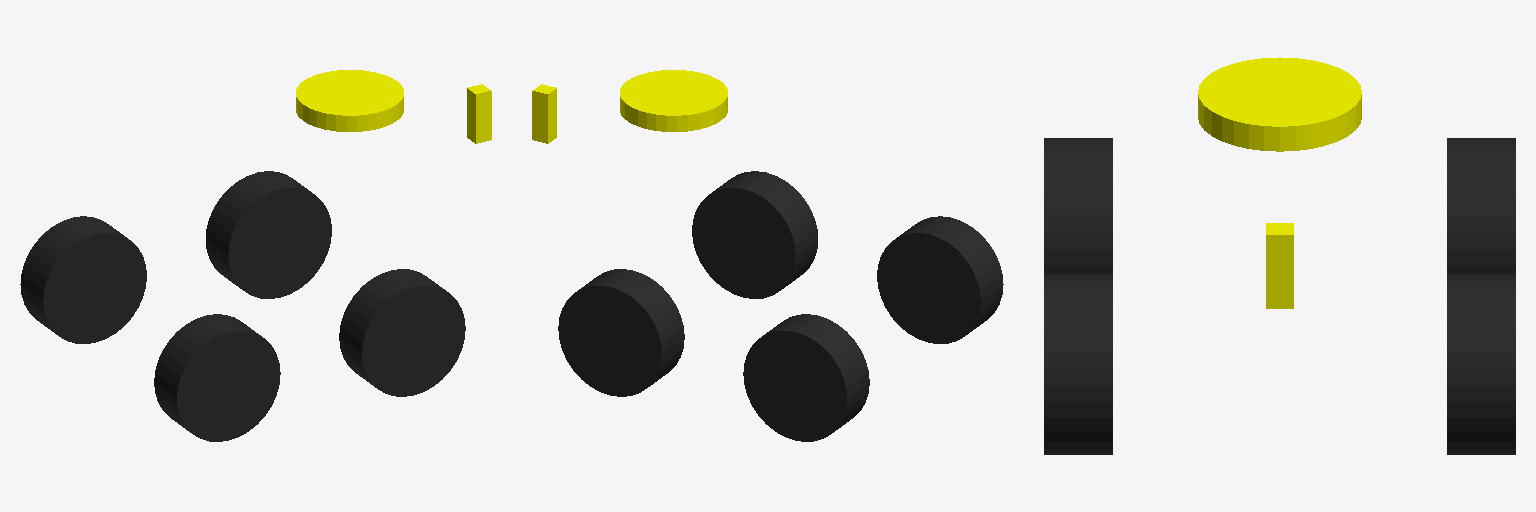
robot.urdf — robot:
<?xml version="1.0" encoding="utf-8"?>
<robot name="robot">

  <!-- Base Link -->
  <link name="base_link">
    <inertial>
      <origin xyz="-0.0121459734710621 -0.000198241570210142 0.0449906840595474" rpy="0 0 0" />
      <mass value="1.00796524149794" />
      <inertia
        ixx="0.000664022840014205"
        ixy="3.36477372709559E-06"
        ixz="-6.46022439037541E-06"
        iyy="0.00190520705036307"
        iyz="5.00471440887707E-10"
        izz="0.00244406959005576" />
    </inertial>
    <visual>
      <origin xyz="0 0 0" rpy="0 0 3.14159265" />
      <geometry>
        <mesh filename="package://robot_description/meshes/base_link.STL" />
      </geometry>
      <material name="yellow">
        <color rgba="1 1 0 1" />
      </material>
    </visual>
    <collision>
      <origin xyz="-0.012 0 0.045" rpy="0 0 3.14159265" />
      <geometry>
        <mesh filename="package://robot_description/meshes/base_link.STL" />
      </geometry>
    </collision>
  </link>

  <!-- Left Rear Wheel -->
  <link name="left_rear_wheel">
    <inertial>
      <origin xyz="0 0 0" rpy="0 0 0" />
      <mass value="0.0310322138231813" />
      <inertia
        ixx="1.37618924502922E-05"
        ixy="0"
        ixz="0"
        iyy="1.37620600377143E-05"
        iyz="0"
        izz="2.28600342994284E-05" />
    </inertial>
    <visual>
      <origin xyz="0 0 0" rpy="0 0 0" />
      <geometry>
        <cylinder radius="0.033" length="0.025"/>
      </geometry>
      <material name="black">
        <color rgba="0.2 0.2 0.2 1" />
      </material>
    </visual>
    <collision>
      <origin xyz="0 0 0" rpy="0 0 0" />
      <geometry>
        <cylinder radius="0.033" length="0.025"/>
      </geometry>
    </collision>
  </link>

  <joint name="leftrearwheel" type="continuous">
    <origin xyz="0.0588 -0.07355 0.011" rpy="-1.5708 0 -3.1416" />
    <parent link="base_link" />
    <child link="left_rear_wheel" />
    <axis xyz="0 0 -1" />
    <limit effort="100" velocity="100" />
    <dynamics damping="0.1" friction="0.1" />
  </joint>

  <!-- Right Rear Wheel -->
  <link name="right_rear_wheel">
    <inertial>
      <origin xyz="0 0 0" rpy="0 0 0" />
      <mass value="0.0310322138231813" />
      <inertia
        ixx="1.37618924502922E-05"
        ixy="0"
        ixz="0"
        iyy="1.37620600377143E-05"
        iyz="0"
        izz="2.28600342994284E-05" />
    </inertial>
    <visual>
      <origin xyz="0 0 0" rpy="0 0 0" />
      <geometry>
        <cylinder radius="0.033" length="0.025"/>
      </geometry>
      <material name="black">
        <color rgba="0.2 0.2 0.2 1" />
      </material>
    </visual>
    <collision>
      <origin xyz="0 0 0" rpy="0 0 0" />
      <geometry>
        <cylinder radius="0.033" length="0.025"/>
      </geometry>
    </collision>
  </link>

  <joint name="rightrearwheel" type="continuous">
    <origin xyz="0.058826 0.07355 0.011" rpy="-1.5708 0 -3.1416" />
    <parent link="base_link" />
    <child link="right_rear_wheel" />
    <axis xyz="0 0 -1" />
    <limit effort="100" velocity="100" />
    <dynamics damping="0.1" friction="0.1" />
  </joint>

  <!-- Left Front Wheel -->
  <link name="left_front_wheel">
    <inertial>
      <origin xyz="0 0 0" rpy="0 0 0" />
      <mass value="0.0310322138231813" />
      <inertia
        ixx="1.37618924502922E-05"
        ixy="0"
        ixz="0"
        iyy="1.37620600377143E-05"
        iyz="0"
        izz="2.28600342994284E-05" />
    </inertial>
    <visual>
      <origin xyz="0 0 0" rpy="0 0 0" />
      <geometry>
        <cylinder radius="0.033" length="0.025"/>
      </geometry>
      <material name="black">
        <color rgba="0.2 0.2 0.2 1" />
      </material>
    </visual>
    <collision>
      <origin xyz="0 0 0" rpy="0 0 0" />
      <geometry>
        <cylinder radius="0.033" length="0.025"/>
      </geometry>
    </collision>
  </link>

  <joint name="left_front_wheel_joint" type="continuous">
    <origin xyz="-0.058826 -0.07355 0.011" rpy="-1.5708 0 -3.1416" />
    <parent link="base_link" />
    <child link="left_front_wheel" />
    <axis xyz="0 0 -1" />
    <limit effort="100" velocity="100" />
    <dynamics damping="0.1" friction="0.1" />
  </joint>

  <!-- Right Front Wheel -->
  <link name="right_front_wheel">
    <inertial>
      <origin xyz="0 0 0" rpy="0 0 0" />
      <mass value="0.0310322138231806" />
      <inertia
        ixx="1.37618924502919E-05"
        ixy="0"
        ixz="0"
        iyy="1.3762060037714E-05"
        iyz="0"
        izz="2.28600342994278E-05" />
    </inertial>
    <visual>
      <origin xyz="0 0 0" rpy="0 0 0" />
      <geometry>
        <cylinder radius="0.033" length="0.025"/>
      </geometry>
      <material name="black">
        <color rgba="0.2 0.2 0.2 1" />
      </material>
    </visual>
    <collision>
      <origin xyz="0 0 0" rpy="0 0 0" />
      <geometry>
        <cylinder radius="0.033" length="0.025"/>
      </geometry>
    </collision>
  </link>

  <joint name="rightfrontwheel" type="continuous">
    <origin xyz="-0.0588 0.07355 0.011" rpy="-1.5708 0 -3.1416" />
    <parent link="base_link" />
    <child link="right_front_wheel" />
    <axis xyz="0 0 -1" />
    <limit effort="100" velocity="100" />
    <dynamics damping="0.1" friction="0.1" />
  </joint>

  <!-- LiDAR Link -->
  <link name="lidar_link">
    <inertial>
      <origin xyz="0 0 0" rpy="0 0 0"/>
      <mass value="0.125"/>
      <inertia ixx="0.001" ixy="0" ixz="0" iyy="0.001" iyz="0" izz="0.001"/>
    </inertial>
    <visual>
      <origin xyz="0 0 0" rpy="0 0 0"/>
      <geometry>
        <cylinder radius="0.03" length="0.01"/>
      </geometry>
      <material name="lidar_jaune">
        <color rgba="1 1 0 1"/>
      </material>
    </visual>
    <collision>
      <origin xyz="0 0 0" rpy="0 0 0"/>
      <geometry>
        <cylinder radius="0.03" length="0.01"/>
      </geometry>
    </collision>
  </link>

  <joint name="lidar_joint" type="fixed">
    <origin xyz="0.068 0 0.12" rpy="0 0 0"/>
    <parent link="base_link"/>
    <child link="lidar_link"/>
  </joint>

  <!-- Camera Link -->
  <link name="camera_link">
    <inertial>
      <origin xyz="0 0 0" rpy="0 0 0"/>
      <mass value="0.08"/>
      <inertia ixx="0.0001" ixy="0" ixz="0" iyy="0.0001" iyz="0" izz="0.0001"/>
    </inertial>
    <visual>
      <origin xyz="0 0 0" rpy="0 0 0"/>
      <geometry>
        <box size="0.01 0.01 0.03"/>
      </geometry>
      <material name="camera_jaune">
        <color rgba="1 1 0 1"/>
      </material>
    </visual>
    <collision>
      <origin xyz="0 0 0" rpy="0 0 0"/>
      <geometry>
        <box size="0.001 0.001 0.03"/>
      </geometry>
    </collision>
  </link>

  <!-- Camera on a PAN SERVO (SG90 on the real robot): rotation about z, left positive.
       Servo angle 90 = straight ahead = 0 rad here; 20..160 deg = -70..+70 deg.
       The pan axis is 0.15 m ahead of base_link: camera_offset in the mission parameters. -->
  <joint name="camera_pan_joint" type="revolute">
    <origin xyz="0.15 0 0.093" rpy="0 0 0"/>
    <parent link="base_link"/>
    <child link="camera_link"/>
    <axis xyz="0 0 1"/>
    <limit lower="-1.2217" upper="1.2217" effort="1.0" velocity="6.0"/>
    <dynamics damping="0.001" friction="0.0"/>
  </joint>

  <!-- Camera Optical Frame -->
  <link name="camera_optical_link"/>

  <joint name="camera_optical_joint" type="fixed">
    <origin xyz="0 0 0" rpy="-1.5707963267948966 0 -1.5707963267948966"/>
    <parent link="camera_link"/>
    <child link="camera_optical_link"/>
  </joint>
  <!-- Différentiel : contrôle des roues -->
  <gazebo>
    <plugin filename="libignition-gazebo-diff-drive-system.so" name="ignition::gazebo::systems::DiffDrive">
      <!-- names are swapped vs. position: wheels at y>0 are the LEFT side when facing +x -->
      <left_joint>rightrearwheel</left_joint>
      <left_joint>rightfrontwheel</left_joint>
      <right_joint>leftrearwheel</right_joint>
      <right_joint>left_front_wheel_joint</right_joint>
      <wheel_separation>0.1471</wheel_separation>
      <wheel_radius>0.033</wheel_radius>
      <odom_publish_frequency>10</odom_publish_frequency>
      <topic>cmd_vel</topic>
      <!-- Wheel odometry is NOT the robot's /odom: robot_sim/sim_base_node builds /odom like the
           real robot (position from speed, heading from the gyro) and publishes odom->base_link. -->
      <odom_topic>wheel_odom</odom_topic>
      <tf_topic>wheel_tf</tf_topic>
      <frame_id>odom</frame_id>
      <child_frame_id>base_link</child_frame_id>
    </plugin>
  </gazebo>

  <!-- Camera pan servo: follows the angle published on camera_pan_cmd (rad) at <= 6 rad/s,
       like an SG90 (~0.1 s / 60 deg). Velocity mode: no PID to tune. -->
  <gazebo>
    <plugin filename="libignition-gazebo-joint-position-controller-system.so"
            name="ignition::gazebo::systems::JointPositionController">
      <joint_name>camera_pan_joint</joint_name>
      <topic>camera_pan_cmd</topic>
      <use_velocity_commands>true</use_velocity_commands>
      <cmd_max>6.0</cmd_max>
      <cmd_min>-6.0</cmd_min>
    </plugin>
  </gazebo>

  <!-- Joint angles (wheels + camera pan) -> /joint_states -> robot_state_publisher TF -->
  <gazebo>
    <plugin filename="libignition-gazebo-joint-state-publisher-system.so"
            name="ignition::gazebo::systems::JointStatePublisher"/>
  </gazebo>

  <!-- Gyro (MPU-6050 on the real robot). Bias + noise so the heading drifts a little,
       as on the real robot; sim_base_node measures the bias at start like the bridge does. -->
  <gazebo reference="base_link">
    <sensor name="imu_sensor" type="imu">
      <always_on>1</always_on>
      <update_rate>50</update_rate>
      <topic>imu</topic>
      <imu>
        <angular_velocity>
          <z>
            <noise type="gaussian">
              <mean>0.0</mean>
              <stddev>0.002</stddev>
              <bias_mean>0.004</bias_mean>
              <bias_stddev>0.001</bias_stddev>
            </noise>
          </z>
        </angular_velocity>
      </imu>
    </sensor>
  </gazebo>

  <!-- Caméra simulée -->
  <gazebo reference="camera_link">
    <sensor name="camera_sensor" type="camera">
      <camera>
        <horizontal_fov>1.047</horizontal_fov>
        <image><width>640</width><height>480</height></image>
        <clip><near>0.02</near><far>10</far></clip>
      </camera>
      <always_on>1</always_on>
      <update_rate>10</update_rate>
      <visualize>true</visualize>
      <topic>camera/image</topic>
    </sensor>
  </gazebo>

  <!-- LiDAR simulé -->
  <gazebo reference="lidar_link">
    <sensor name="lidar_sensor" type="gpu_lidar">
      <topic>scan</topic>
      <update_rate>10</update_rate>
      <lidar>
        <scan>
          <horizontal>
            <samples>360</samples>
            <resolution>1</resolution>
            <min_angle>-3.14159</min_angle>
            <max_angle>3.14159</max_angle>
          </horizontal>
        </scan>
        <range><min>0.12</min><max>10.0</max><resolution>0.01</resolution></range>
      </lidar>
      <always_on>1</always_on>
      <visualize>true</visualize>
    </sensor>
  </gazebo>
</robot>

--- Render facts (derived) ---
3 views of the same robot in one strip: view 1: azimuth 30°, elevation 25°; view 2: azimuth 150°, elevation 25°; view 3: azimuth 270°, elevation 25° (orthographic).
Model robot with 8 links and 7 joints (1 revolute, 4 continuous, 2 fixed), rooted at base_link, posed all joints at 0.
Visible links, largest first — view 1: left_rear_wheel, right_rear_wheel, right_front_wheel, left_front_wheel, lidar_link, camera_link; view 2: left_rear_wheel, right_rear_wheel, left_front_wheel, right_front_wheel, lidar_link, camera_link; view 3: lidar_link, left_rear_wheel, right_rear_wheel, left_front_wheel, right_front_wheel, camera_link.
Boxes of the visible links, x1,y1,x2,y2 form: left_rear_wheel: (339, 269, 465, 396); right_rear_wheel: (206, 171, 331, 298); right_front_wheel: (20, 216, 146, 343); left_front_wheel: (154, 314, 280, 441); lidar_link: (296, 70, 403, 131); camera_link: (467, 84, 491, 143); left_rear_wheel: (692, 171, 817, 298); right_rear_wheel: (558, 269, 684, 396); left_front_wheel: (877, 216, 1003, 343); right_front_wheel: (743, 314, 869, 441); lidar_link: (620, 70, 727, 131); camera_link: (532, 84, 556, 143); lidar_link: (1198, 57, 1361, 151); left_rear_wheel: (1044, 274, 1112, 454); right_rear_wheel: (1447, 274, 1515, 454); left_front_wheel: (1044, 138, 1112, 273); right_front_wheel: (1447, 138, 1515, 273); camera_link: (1266, 223, 1293, 308).
Size in the robot's own frame: 0.2468 by 0.1721 by 0.147 metres.
Meshes: 1 distinct files referenced, 0 mesh visuals loaded (none loaded); not drawn: 1 (reference not matched to a file when rendering).
